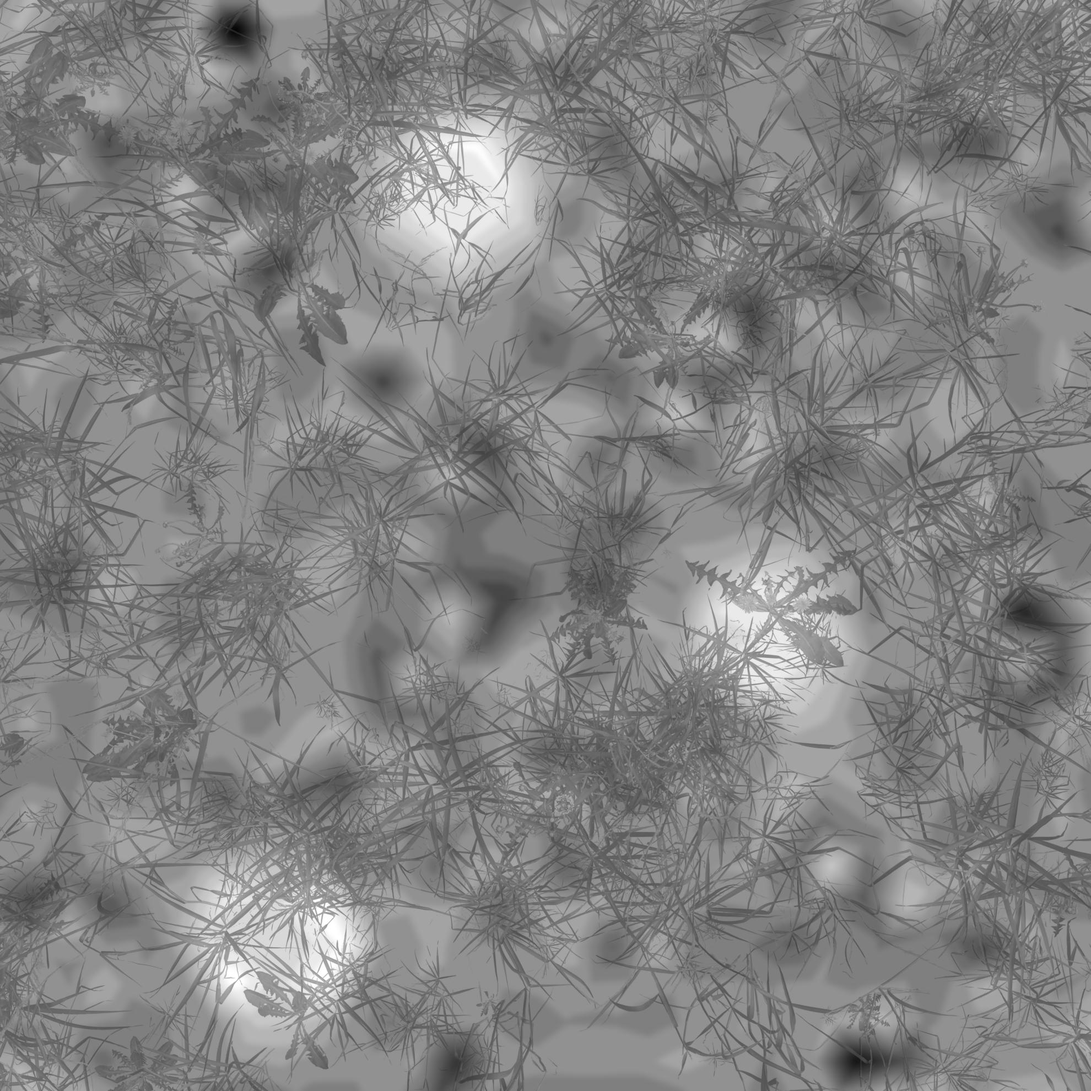landmine: (373, 118, 548, 284), (202, 855, 358, 1018)
